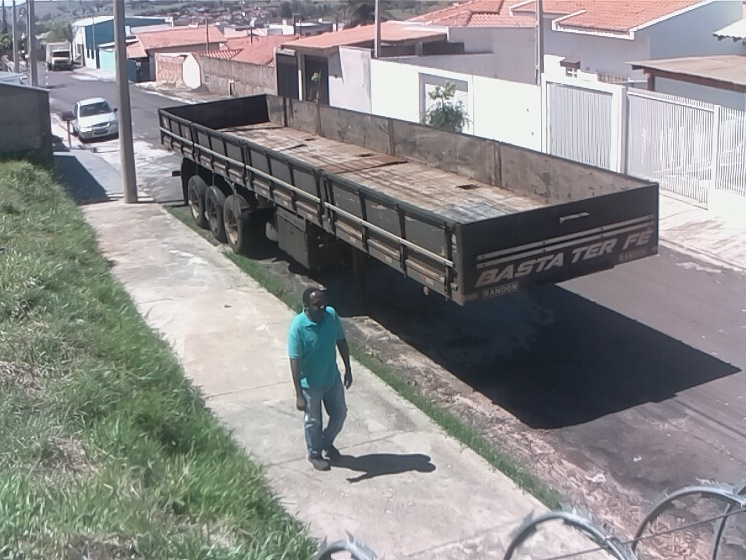person: (285, 288, 360, 475)
